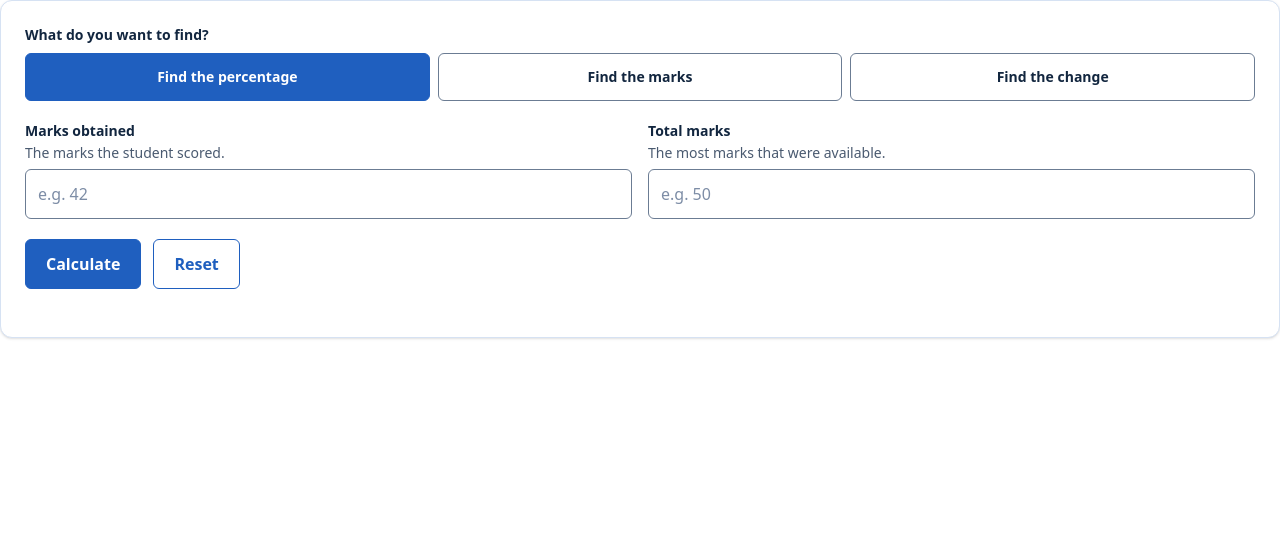
Test case: PercentageCalculator › calculates a percentage from marks
This screenshot has width=1280, height=543.
Type "42" into the field labelled "Marks obtained" at (328, 194), box [25,169,632,219]
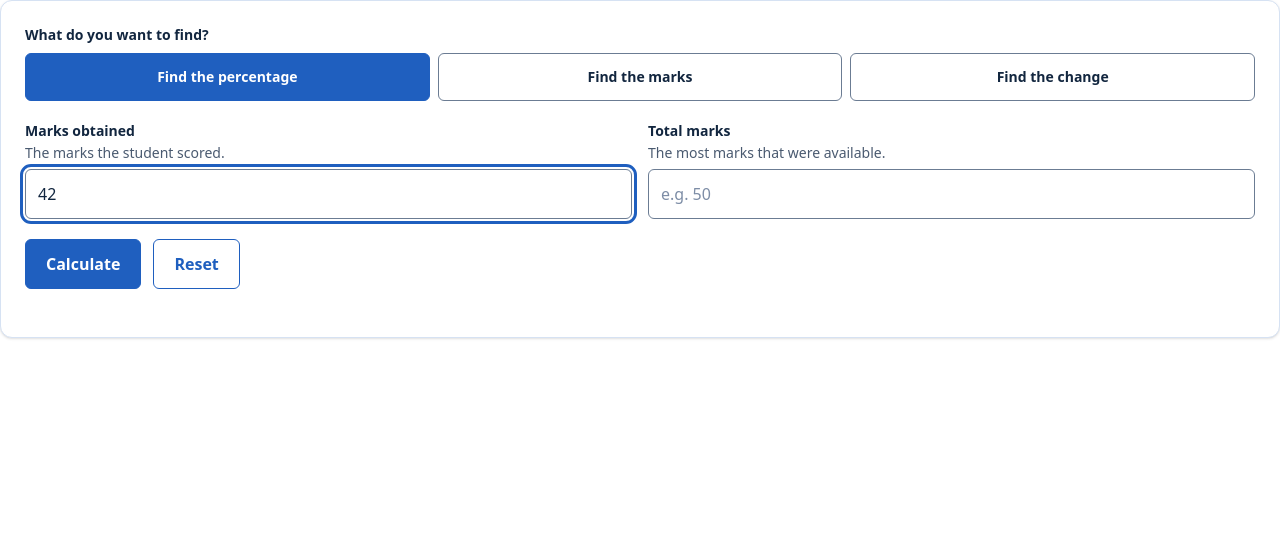
Type "50" into the field labelled "Total marks" at (952, 194), box [648,169,1255,219]
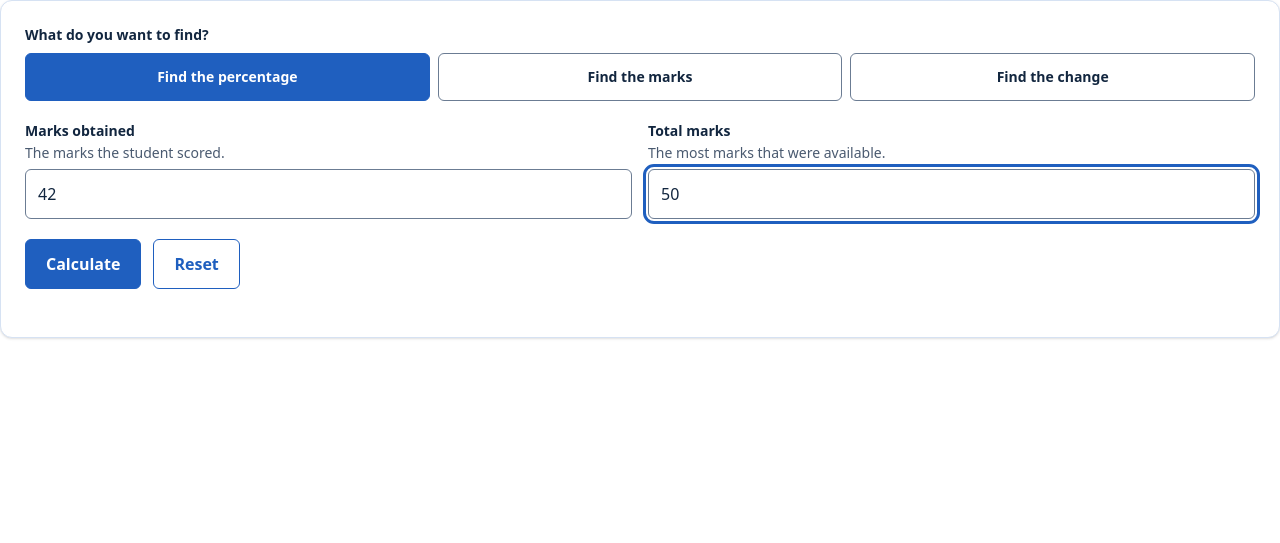
Click the button "Calculate" at (83, 264), box [25,239,141,289]
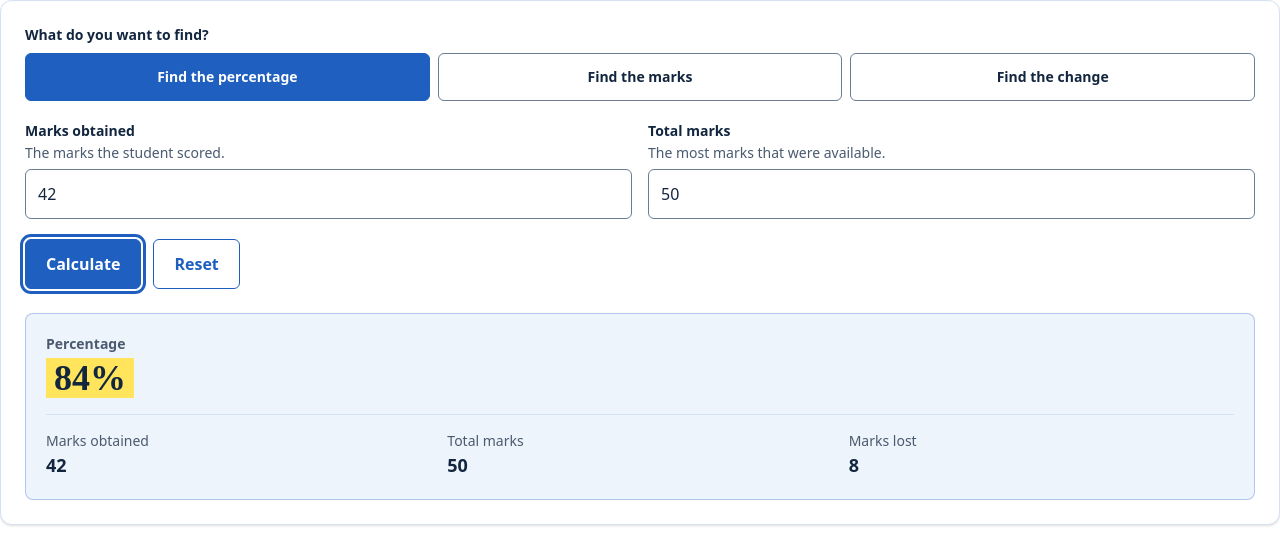
Now the text "84%" is shown, box [46,358,134,398]
Now the text "Marks lost" is shown, box [849,431,917,450]
Now the text "8" is shown, box [849,453,859,477]
